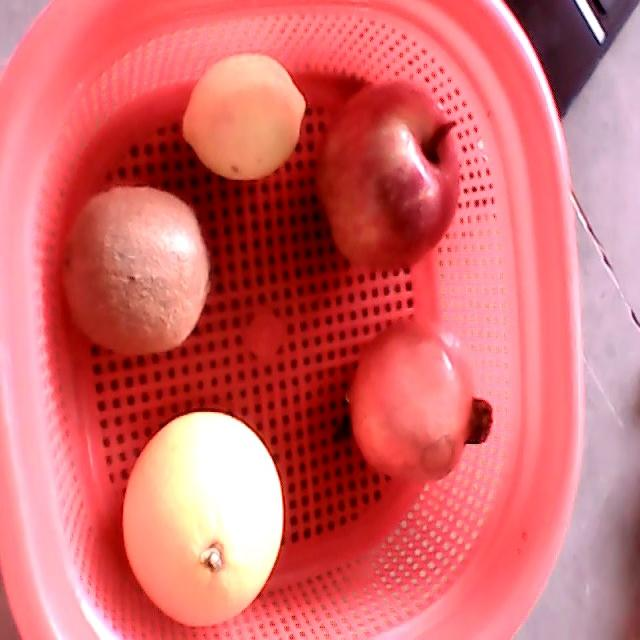apple: (314, 80, 461, 272)
kiwi: (57, 184, 211, 355)
lemon: (181, 53, 306, 181)
orange: (122, 409, 284, 629)
pomegranate: (349, 317, 492, 488)
